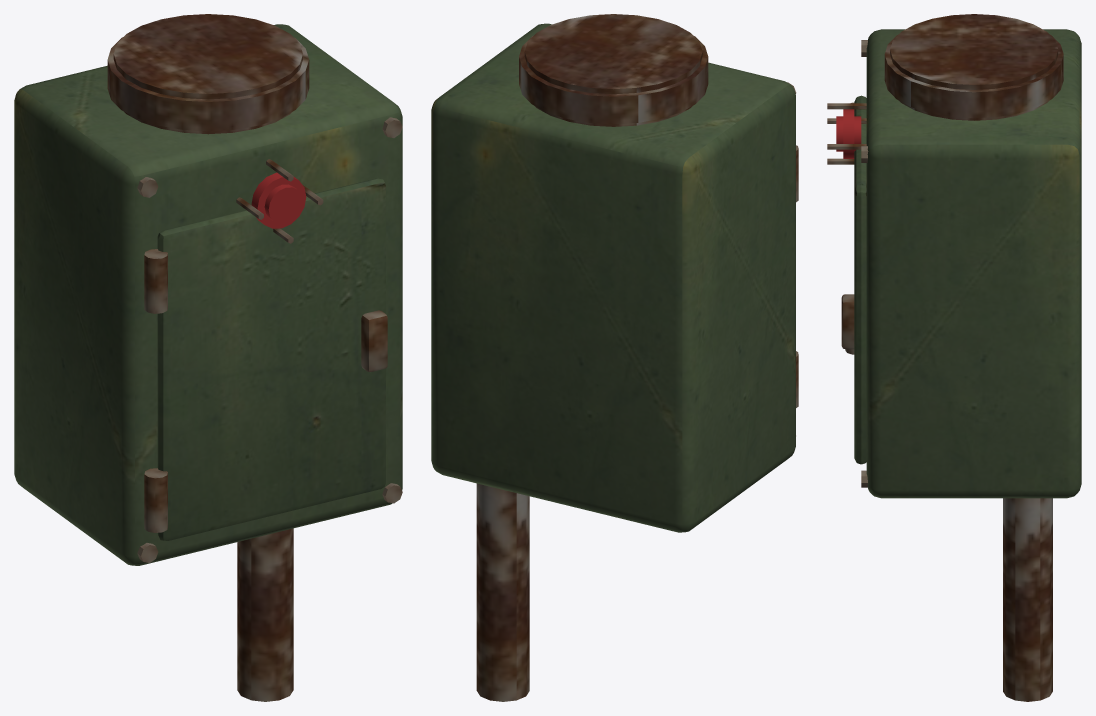
Rendered from socket.glb.
The picture shows the model from 3 angles, left to right: view 1: azimuth 30°, elevation 25°; view 2: azimuth 150°, elevation 25°; view 3: azimuth 270°, elevation 25°; orthographic projection. The views are drawn at different scales.
Parts seen in each view (by area): view 1: socket_green, socket_metal, lamp; view 2: socket_green, socket_metal; view 3: socket_green, socket_metal, lamp.
Part boxes in pixels (box(x1,y1,x2,y2)): socket_green: box(14, 24, 402, 565); socket_metal: box(107, 14, 402, 701); lamp: box(251, 172, 306, 228); socket_green: box(431, 23, 795, 532); socket_metal: box(476, 14, 798, 701); socket_green: box(854, 29, 1081, 498); socket_metal: box(827, 14, 1063, 701); lamp: box(836, 109, 861, 158).
Size of the model in its own units: 0.16 by 0.372 by 0.142.
Materials: 3 (2 with a texture image).
